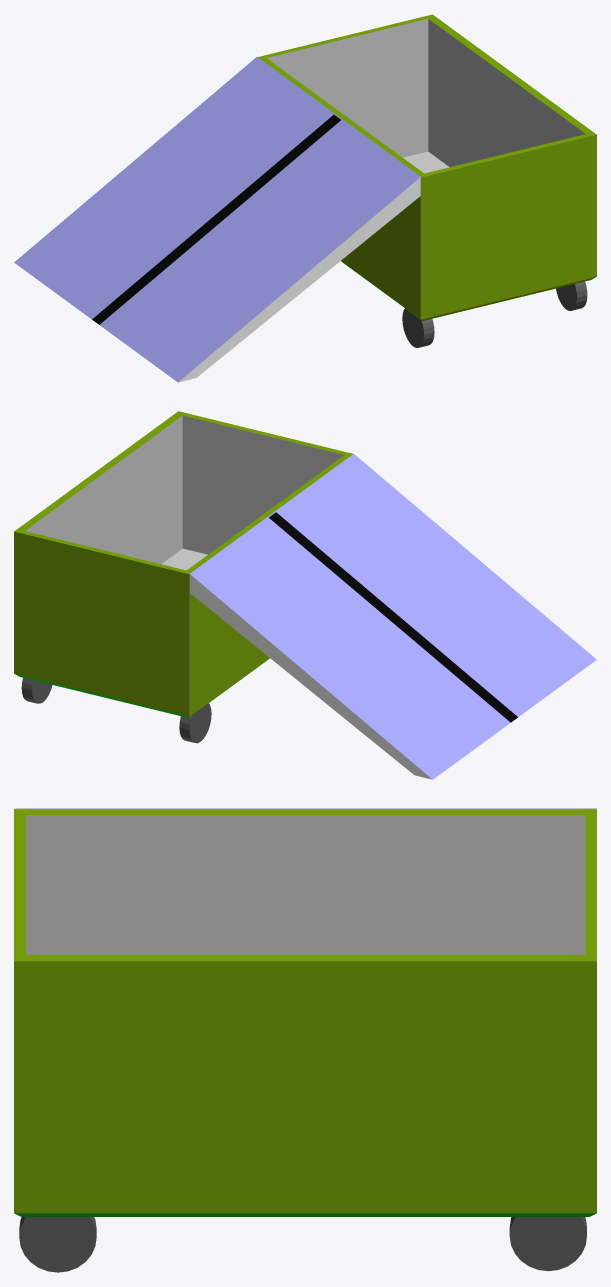
The model's file is CPT 1.1.glb.
The picture shows the model from 3 angles, top to bottom: view 1: azimuth 30°, elevation 25°; view 2: azimuth 150°, elevation 25°; view 3: azimuth 270°, elevation 25°; orthographic projection. The views are drawn at different scales.
Visible parts, largest first — view 1: Model, Wheels1, Wheels3; view 2: Model, Wheels2, Wheels4; view 3: Model, Wheels3, Wheels4.
Boxes of the visible parts, box(x1,y1,x2,y2) form: Model: box(14, 14, 596, 382); Wheels1: box(402, 308, 434, 347); Wheels3: box(556, 281, 587, 310); Model: box(14, 411, 596, 779); Wheels2: box(179, 703, 211, 743); Wheels4: box(21, 677, 52, 703); Model: box(14, 808, 596, 1216); Wheels3: box(19, 1217, 96, 1272); Wheels4: box(509, 1217, 586, 1271).
Bounding box in the file's own units: 138 × 57.32 × 94.15.
